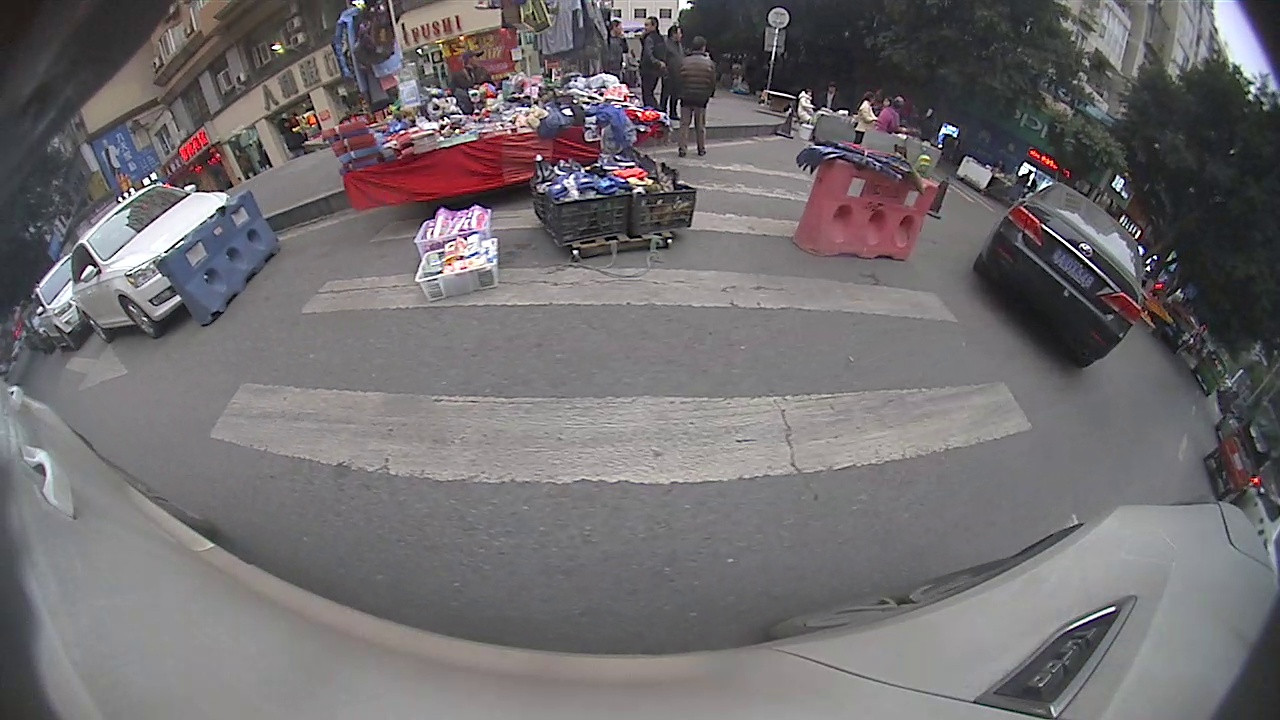car: (971, 181, 1145, 370), (70, 183, 246, 340), (29, 252, 87, 352)
front: (118, 298, 160, 340), (59, 327, 77, 354)
person: (682, 34, 712, 156), (642, 16, 659, 108)
rear: (79, 313, 111, 342)
